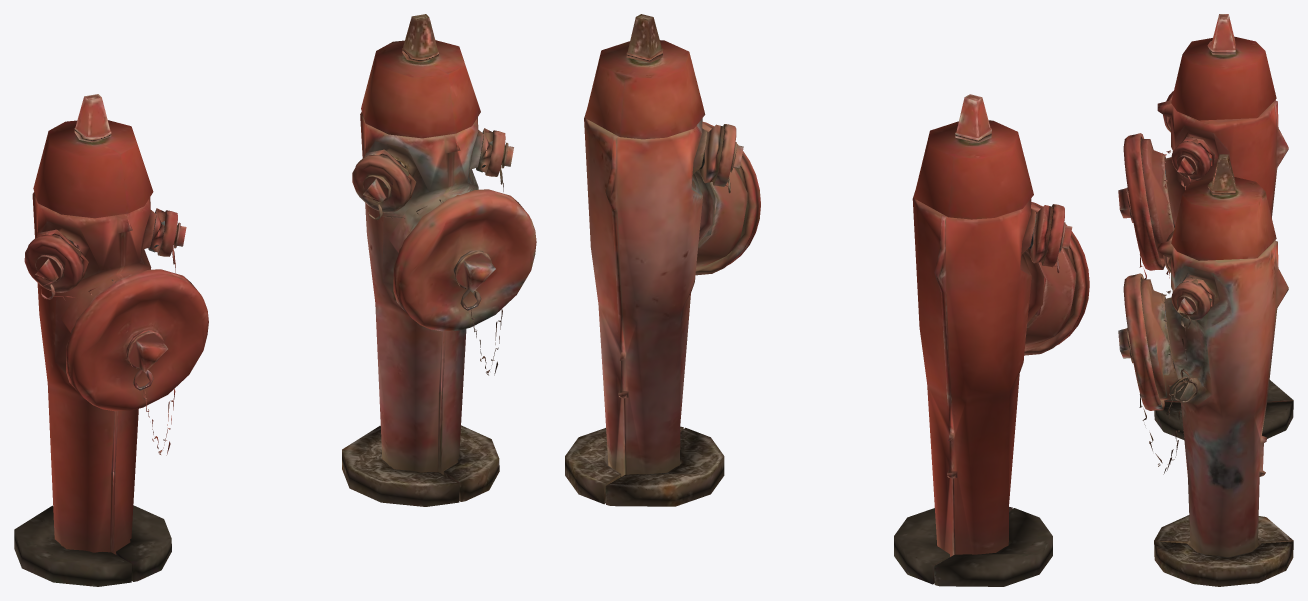
Rendered from hydrant.glb.
The picture shows the model from 3 angles, left to right: view 1: azimuth 30°, elevation 25°; view 2: azimuth 150°, elevation 25°; view 3: azimuth 270°, elevation 25°; orthographic projection. The views are drawn at different scales.
Parts seen in each view (by area): view 1: fire_hydrant_aged, fire_hydrant, fire_hydrant_cap_01_aged, fire_hydrant_cap_01, fire_hydrant_cap_03, fire_hydrant_cap_03_aged, fire_hydrant_chain_aged, fire_hydrant_cap_02_aged, fire_hydrant_cap_02, fire_hydrant_chain; view 2: fire_hydrant_aged, fire_hydrant, fire_hydrant_cap_01, fire_hydrant_cap_01_aged, fire_hydrant_cap_03_aged, fire_hydrant_cap_03; view 3: fire_hydrant_aged, fire_hydrant, fire_hydrant_cap_01_aged, fire_hydrant_cap_01, fire_hydrant_cap_02_aged, fire_hydrant_cap_02, fire_hydrant_chain_aged.
Part boxes in pixels (x1,y1,x2,y2): fire_hydrant_aged: [342, 14, 499, 506]; fire_hydrant: [14, 94, 171, 586]; fire_hydrant_cap_01_aged: [393, 189, 536, 331]; fire_hydrant_cap_01: [66, 269, 208, 411]; fire_hydrant_cap_03: [24, 234, 83, 292]; fire_hydrant_cap_03_aged: [352, 154, 411, 212]; fire_hydrant_chain_aged: [368, 164, 503, 375]; fire_hydrant_cap_02_aged: [485, 130, 513, 176]; fire_hydrant_cap_02: [157, 210, 186, 256]; fire_hydrant_chain: [41, 244, 175, 455]; fire_hydrant_aged: [565, 14, 747, 506]; fire_hydrant: [894, 94, 1076, 586]; fire_hydrant_cap_01: [1024, 202, 1089, 355]; fire_hydrant_cap_01_aged: [695, 121, 760, 275]; fire_hydrant_cap_03_aged: [712, 124, 743, 186]; fire_hydrant_cap_03: [1041, 204, 1072, 267]; fire_hydrant_aged: [1141, 154, 1293, 586]; fire_hydrant: [1141, 14, 1293, 439]; fire_hydrant_cap_01_aged: [1118, 273, 1164, 410]; fire_hydrant_cap_01: [1118, 133, 1164, 270]; fire_hydrant_cap_02_aged: [1171, 281, 1210, 320]; fire_hydrant_cap_02: [1171, 141, 1210, 179]; fire_hydrant_chain_aged: [1139, 290, 1198, 474].
Bounding box in the file's own units: 0.8745 × 0.7992 × 0.3173.
Materials: 2 (2 with a texture image).
